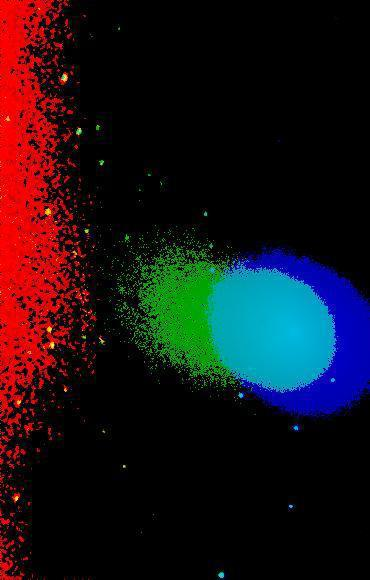star: (148, 168, 178, 198)
